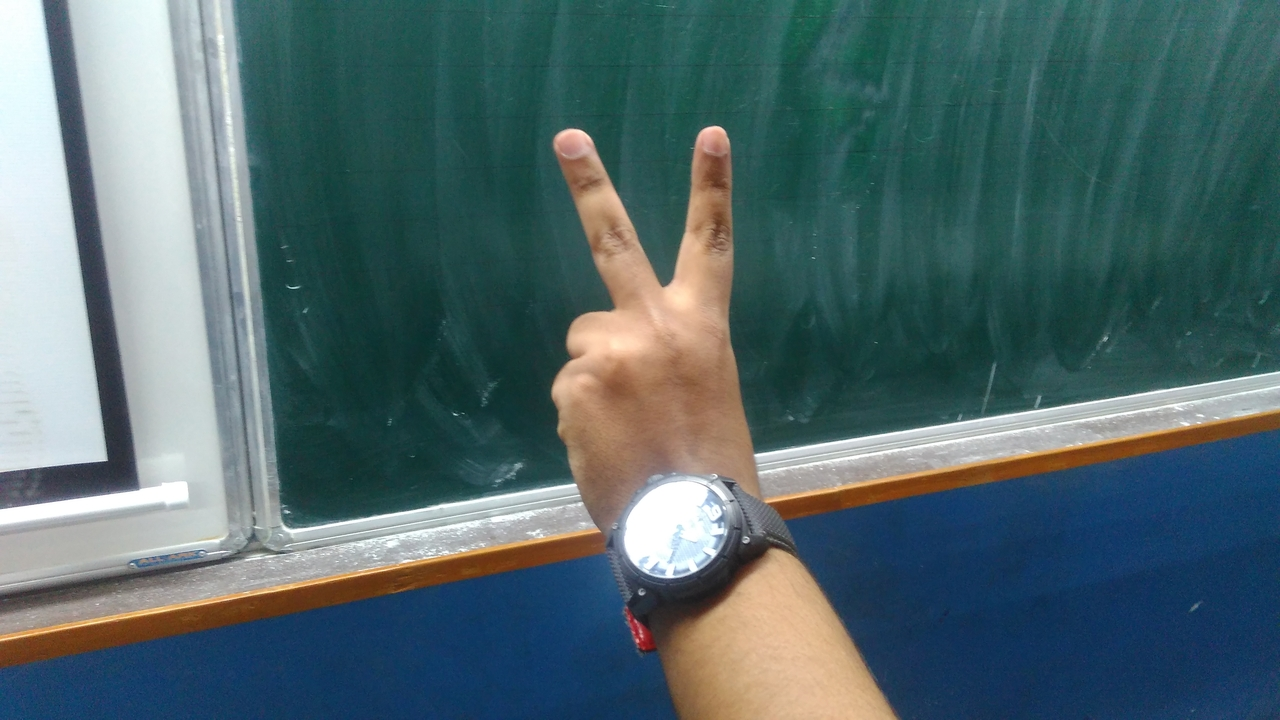fingertip: (544, 122, 604, 170), (686, 118, 738, 166)
